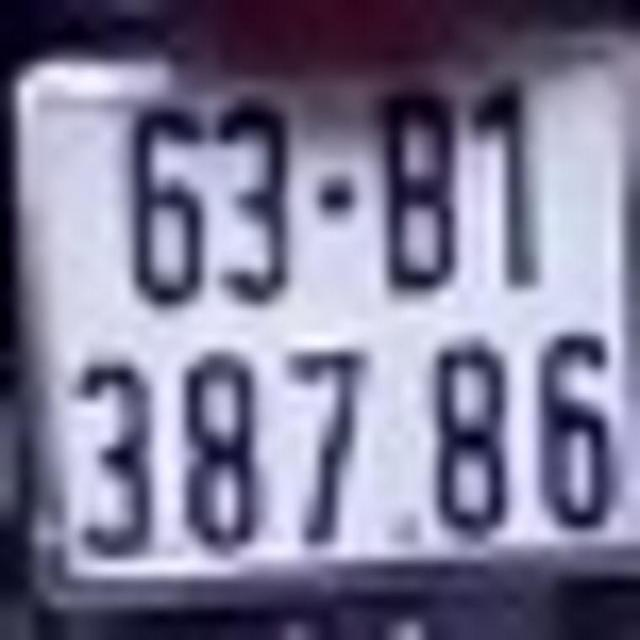1: (471, 66, 556, 289)
3: (67, 350, 157, 558), (215, 90, 298, 304)
6: (530, 324, 625, 527), (121, 98, 210, 309)
7: (278, 332, 374, 552)
8: (176, 339, 265, 551), (426, 332, 516, 538)
B: (369, 75, 466, 296)
